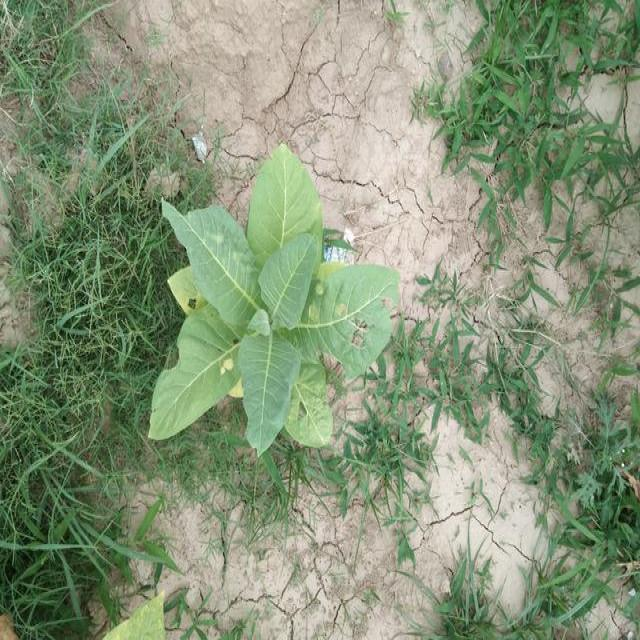crop: (152, 142, 406, 476)
